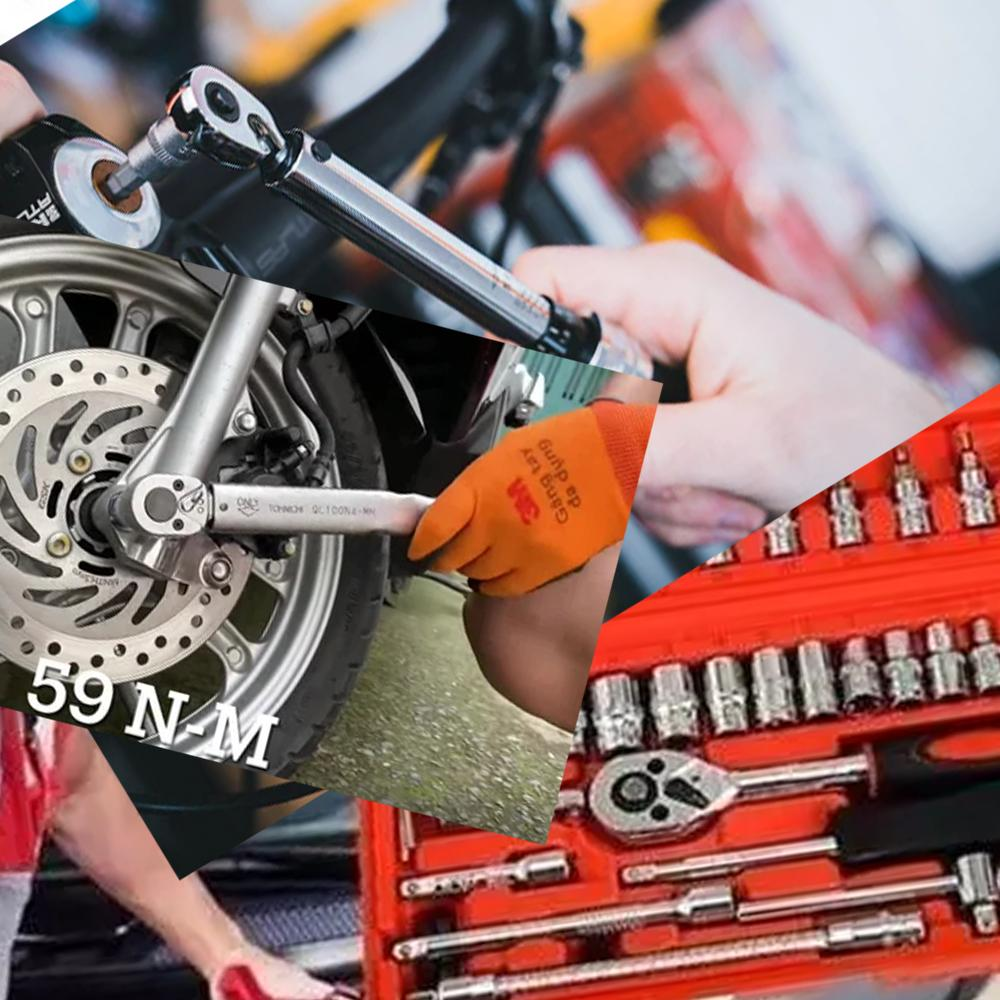Tool: (585, 739, 737, 845), (167, 63, 305, 177), (132, 472, 215, 543)
